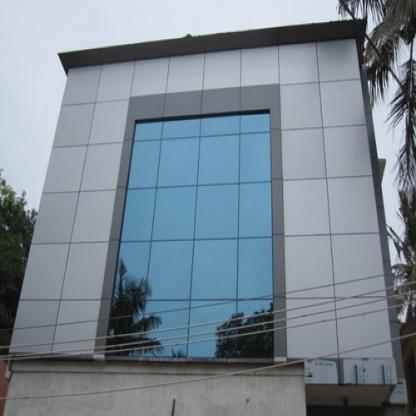window: (197, 245, 235, 295), (153, 246, 189, 296), (194, 304, 228, 354), (150, 306, 184, 355), (199, 190, 235, 234), (159, 192, 191, 236), (241, 244, 270, 292), (204, 140, 236, 182), (163, 140, 193, 184), (241, 306, 270, 350), (245, 188, 269, 232), (115, 306, 137, 350), (122, 250, 142, 292), (128, 196, 148, 236), (246, 141, 267, 175), (136, 144, 154, 181)
